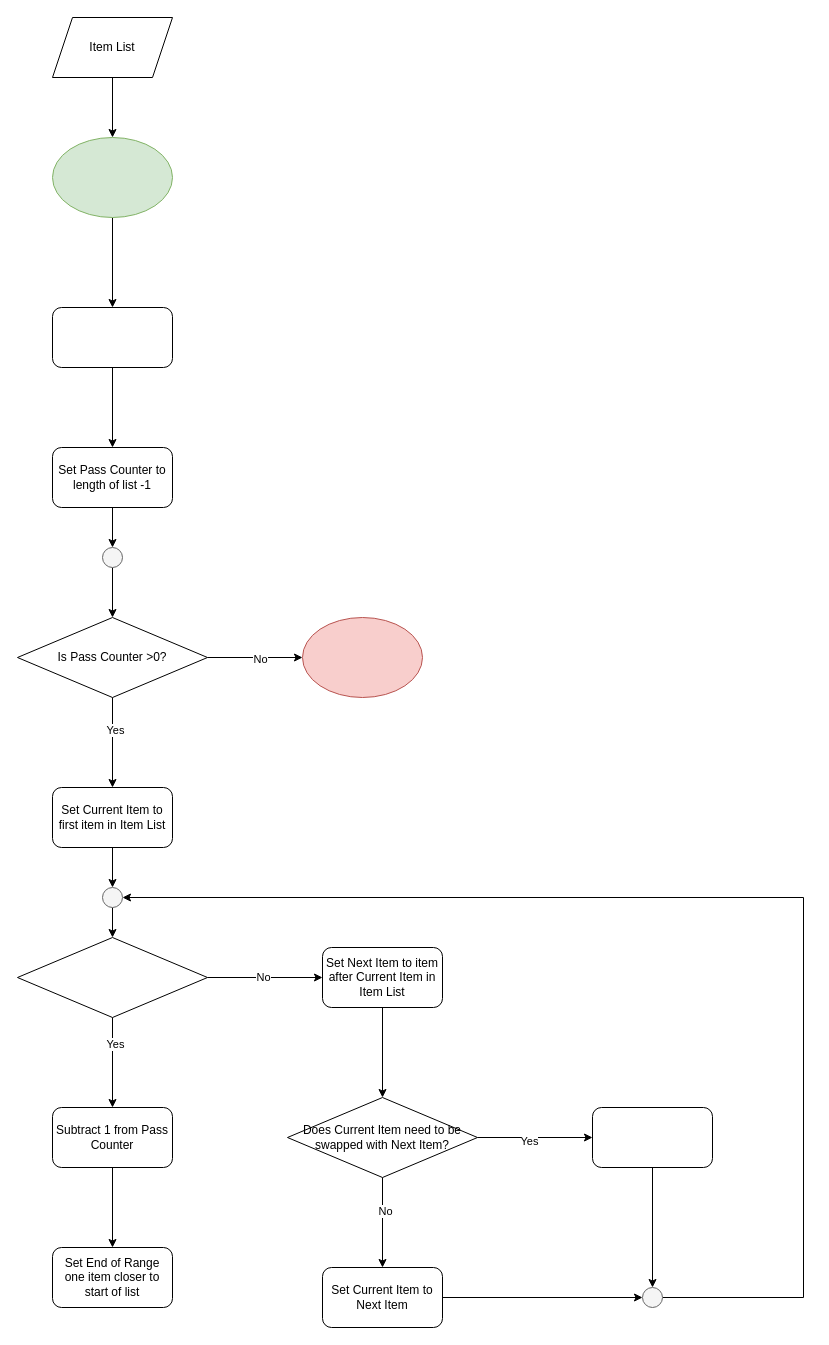
The diagram is 829 pixels wide and 1345 high, and some of its shapes have lost their labels. Each missing label, with the centre of its shape:
"End" goes at point (362, 657).
"Is Current Item the End of Range?" goes at point (112, 977).
"Set End of Range to last Item List" goes at point (112, 337).
"Start" goes at point (112, 177).
"Swap Current Item and Next Item" goes at point (652, 1137).
